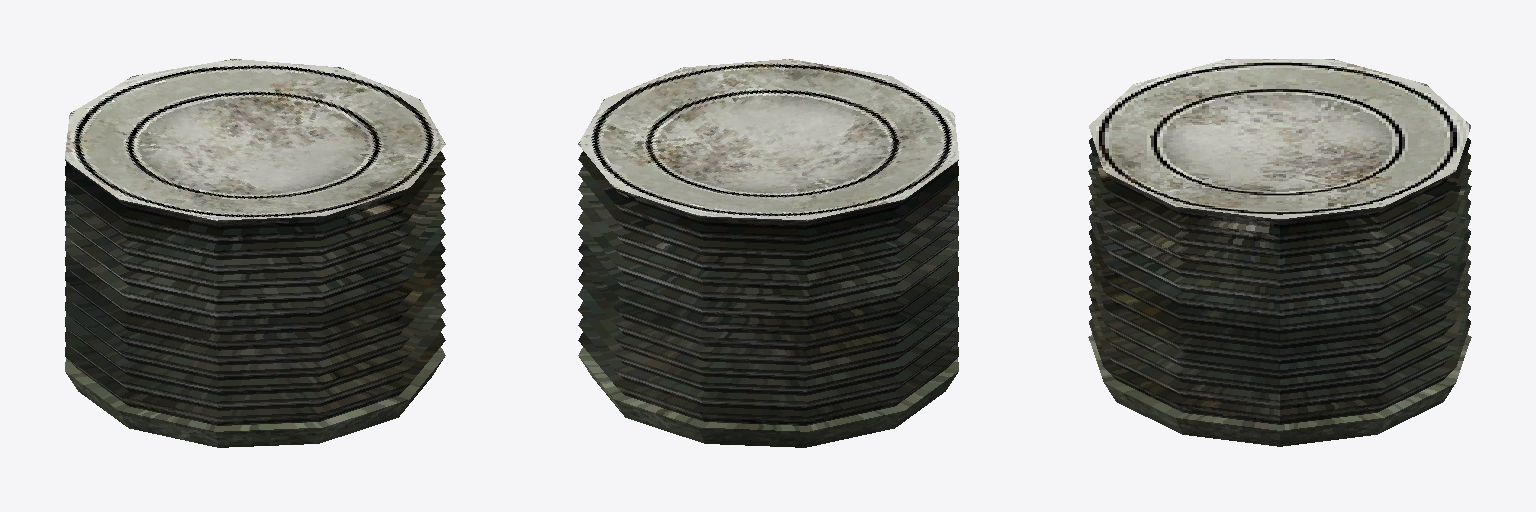
The picture shows the model from 3 angles: view 1: azimuth 30°, elevation 25°; view 2: azimuth 150°, elevation 25°; view 3: azimuth 270°, elevation 25°; orthographic projection.
Visible parts, largest first — view 1: AA_Kitchen_Plates02_St; view 2: AA_Kitchen_Plates02_St; view 3: AA_Kitchen_Plates02_St.
Boxes of the visible parts, <box> form: AA_Kitchen_Plates02_St: <box>65,59,445,447</box>; AA_Kitchen_Plates02_St: <box>578,59,958,447</box>; AA_Kitchen_Plates02_St: <box>1088,59,1471,446</box>.
Size of the model in its own units: 47.53 by 32.24 by 48.02.
Materials: 1 (1 with a texture image).